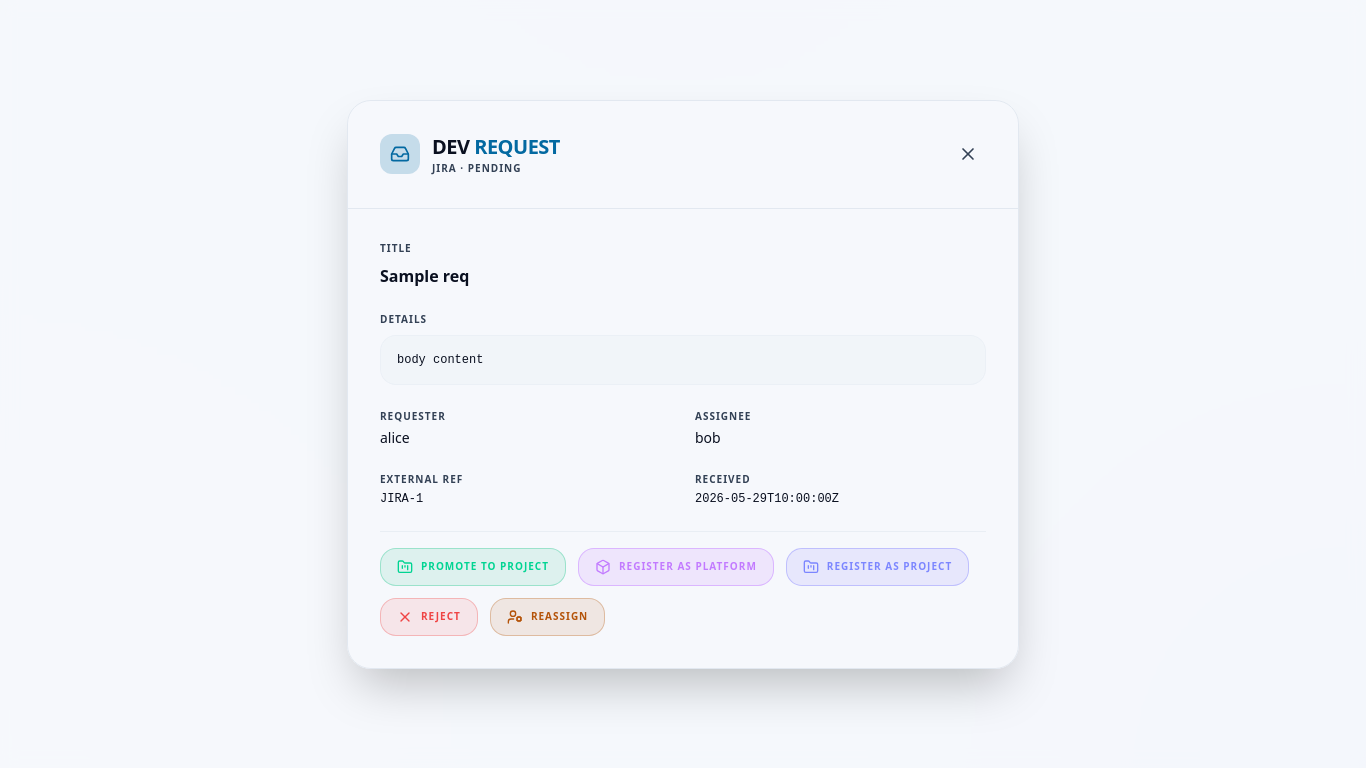
Test: DevRequestDetailModal › shows error when register target_id is empty
The image size is (1366, 768).
Click the button "Register as Platform".
click(676, 566)  # box [578,548,774,586]
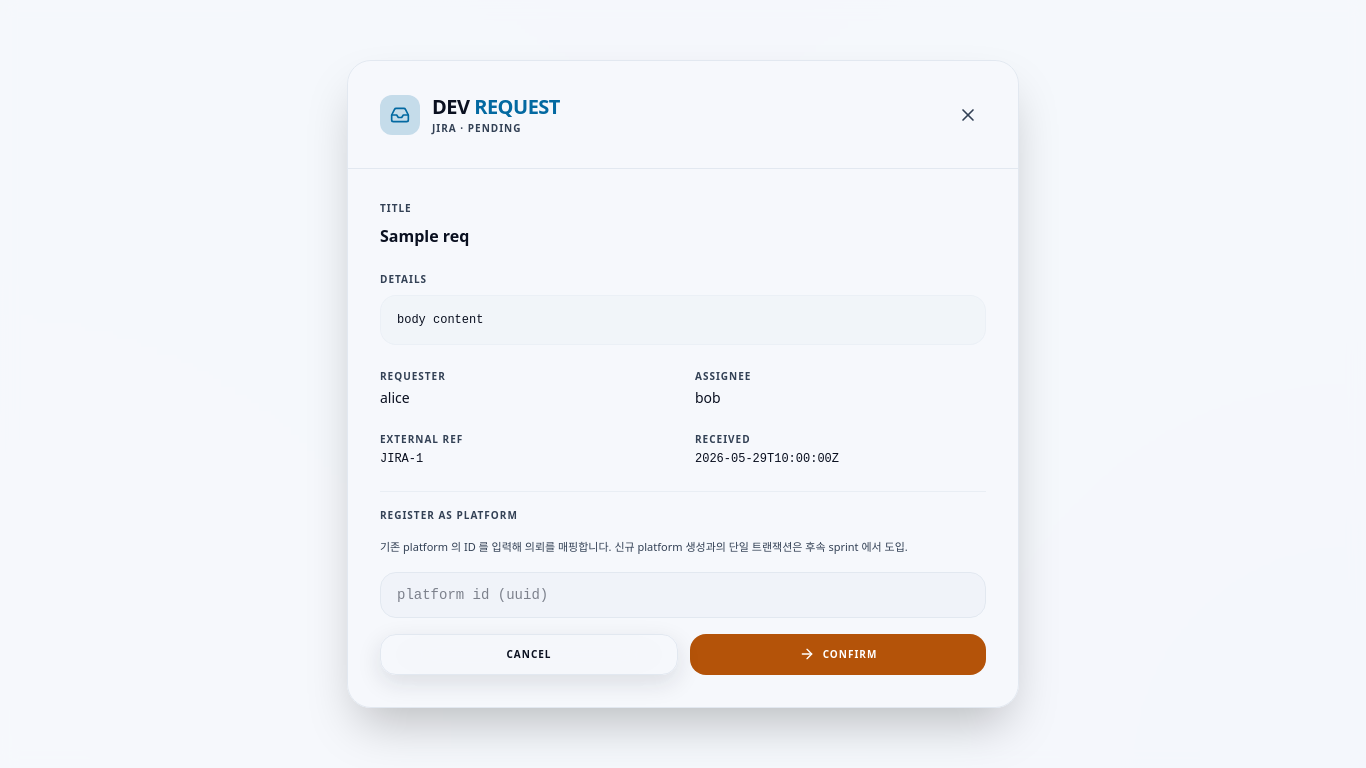
Click the button "Confirm".
click(838, 654)  # box [690,634,986,675]
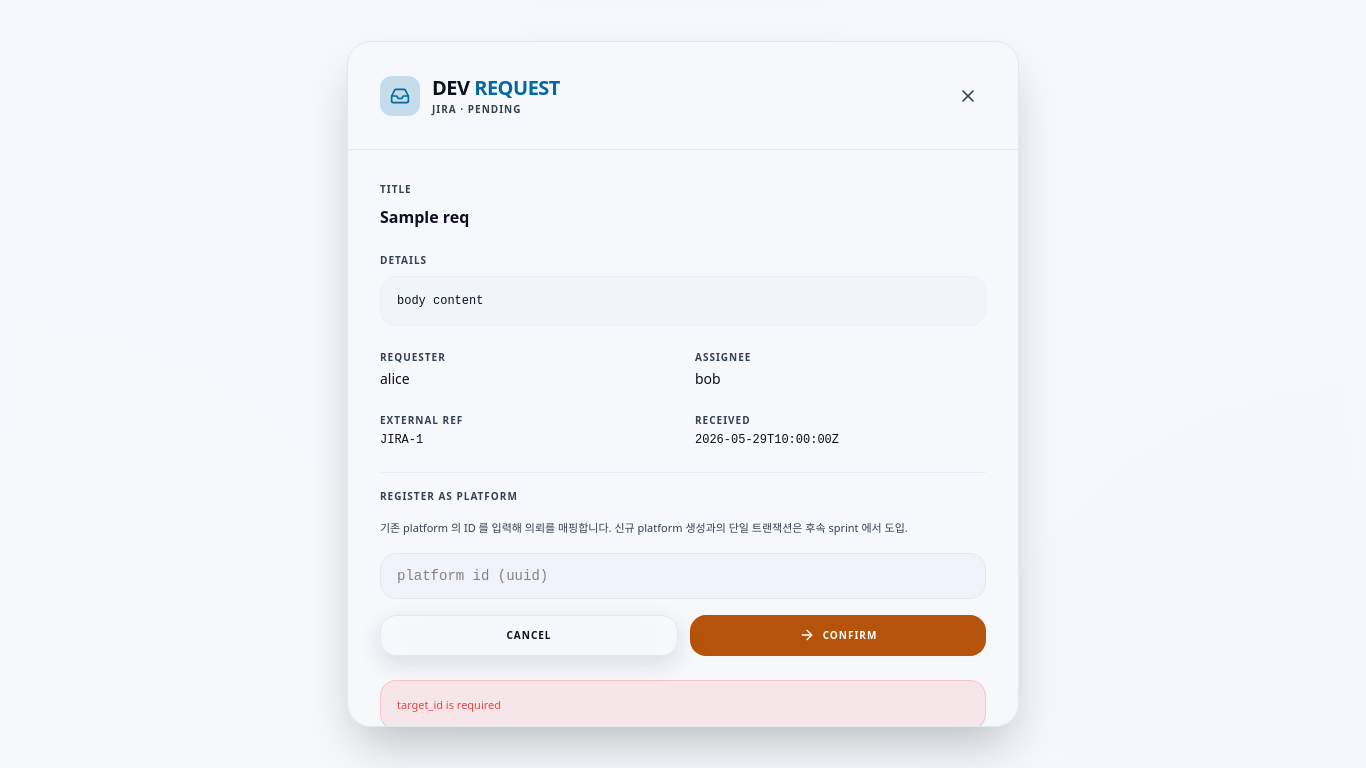
Now the text "target_id is required" is shown, box [380,680,986,726]
